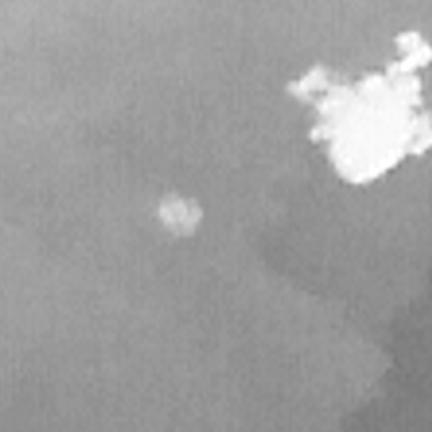flukeprints: (289, 32, 431, 186)
